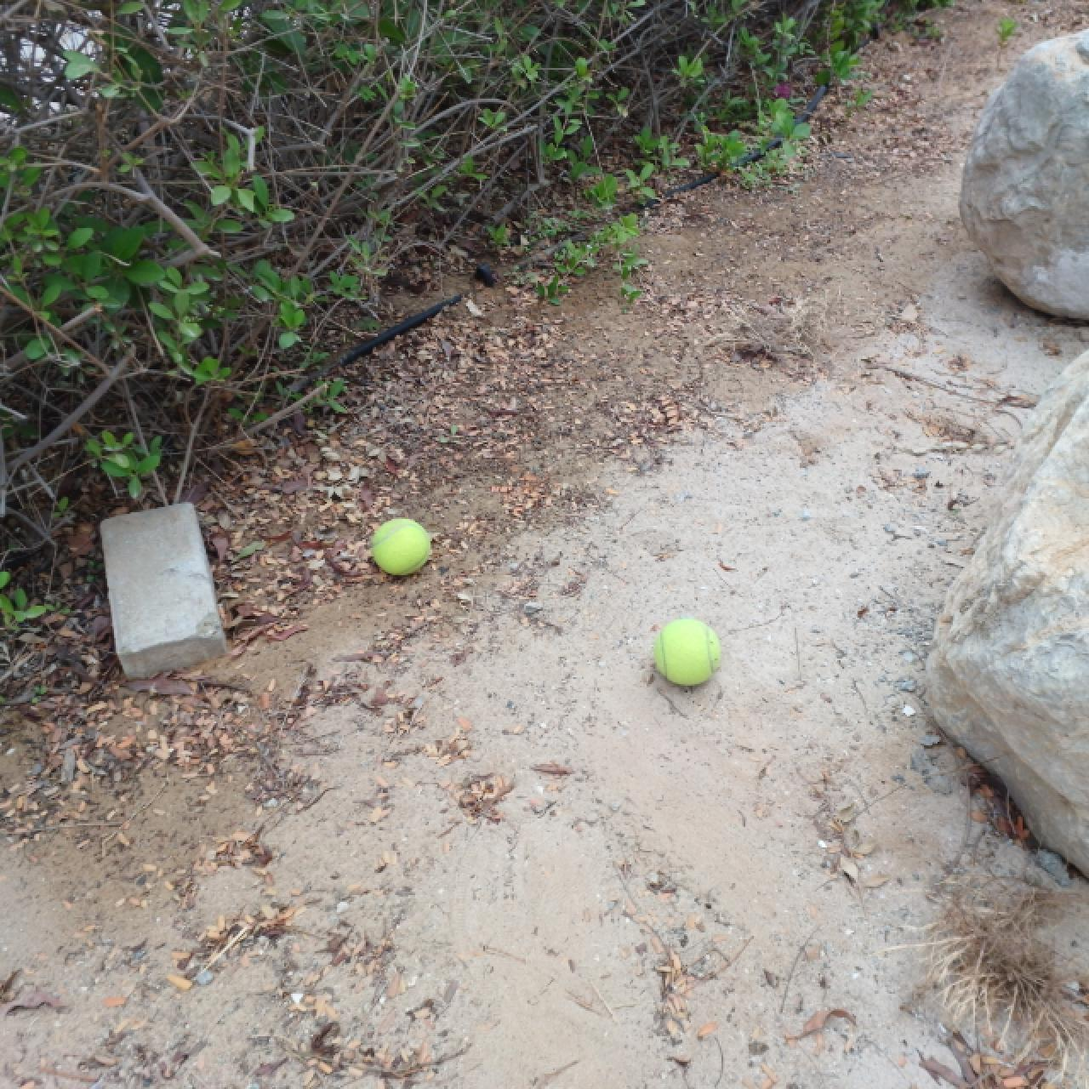tennis-ball: (653, 614, 722, 688), (370, 515, 432, 578)
